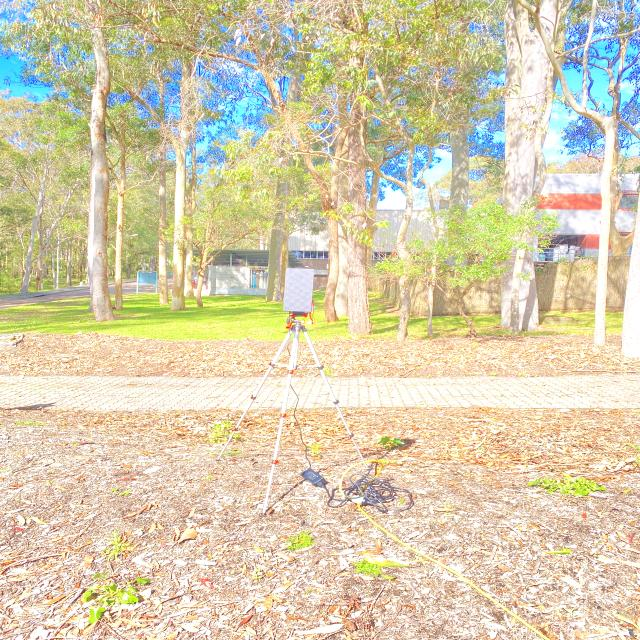matrix: (283, 266, 313, 313)
